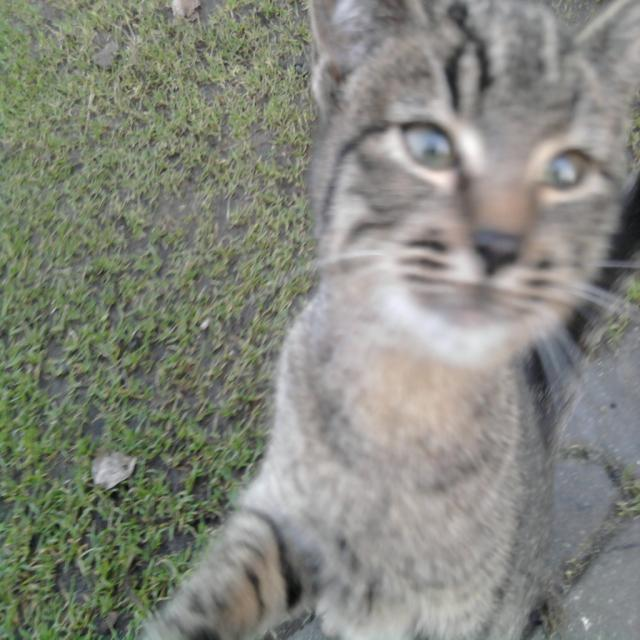Cat: (133, 0, 638, 638)
